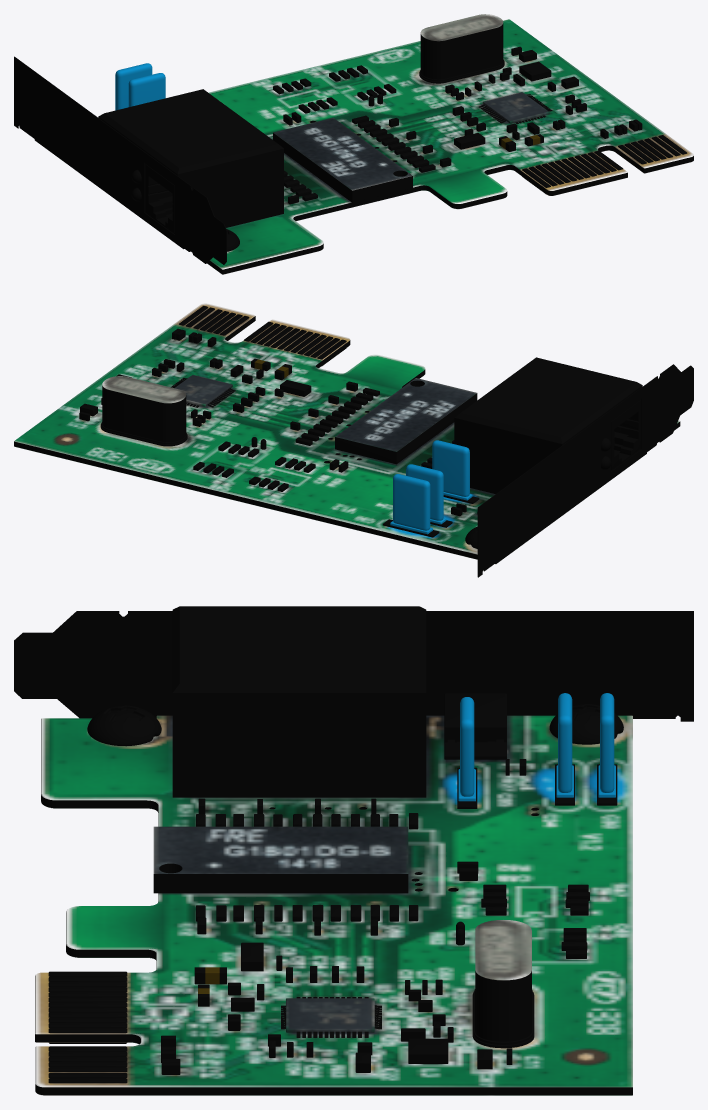
Rendered from tarjeta_red.glb.
3 renders of one model, top to bottom at view 1: azimuth 30°, elevation 25°; view 2: azimuth 150°, elevation 25°; view 3: azimuth 270°, elevation 25°, orthographic. The views are drawn at different scales.
Visible parts, largest first — view 1: Rectangle001.008, Box020.003, Rectangle007.005, Box019.003, Rectangle002.007, Box017.003, ChamferBox004.008, ChamferBox027.008, Rectangle014.005, Box023.003, Box021.003; view 2: Rectangle001.008, Box020.003, Rectangle007.005, Box019.003, Rectangle002.007, Box017.003, ChamferBox004.008, Box021.003, Box025.002, Rectangle014.005, ChamferBox027.008, Box023.003; view 3: Rectangle001.008, Box020.003, Rectangle007.005, Box019.003, Box017.003, Rectangle002.007, ChamferBox004.008, Box018.003, ChamferBox027.008, Sphere008.003, Box025.002, Box021.003 (+3 smaller).
Boxes of the visible parts, <box> form: Rectangle001.008: <box>34,19,693,274</box>; Box020.003: <box>98,89,283,234</box>; Rectangle007.005: <box>14,56,226,264</box>; Box019.003: <box>273,117,412,202</box>; Rectangle002.007: <box>419,14,504,83</box>; Box017.003: <box>283,46,642,204</box>; ChamferBox004.008: <box>273,65,435,201</box>; ChamferBox027.008: <box>482,92,549,123</box>; Rectangle014.005: <box>145,164,174,232</box>; Box023.003: <box>128,73,165,106</box>; Box021.003: <box>115,63,152,110</box>; Rectangle001.008: <box>14,303,680,564</box>; Box020.003: <box>454,357,642,493</box>; Rectangle007.005: <box>477,364,693,577</box>; Box019.003: <box>335,378,477,464</box>; Rectangle002.007: <box>100,376,187,446</box>; Box017.003: <box>79,328,466,516</box>; ChamferBox004.008: <box>193,388,454,491</box>; Box021.003: <box>393,474,430,530</box>; Box025.002: <box>432,440,469,496</box>; Rectangle014.005: <box>611,400,640,469</box>; ChamferBox027.008: <box>174,374,232,406</box>; Box023.003: <box>406,464,443,520</box>; Rectangle001.008: <box>35,715,632,1095</box>; Box020.003: <box>172,606,426,797</box>; Rectangle007.005: <box>14,611,693,721</box>; Box019.003: <box>153,826,408,893</box>; Box017.003: <box>161,759,526,1074</box>; Rectangle002.007: <box>472,920,534,1048</box>; ChamferBox004.008: <box>196,813,589,958</box>; Box018.003: <box>444,693,506,759</box>; ChamferBox027.008: <box>286,998,374,1032</box>; Sphere008.003: <box>87,705,161,746</box>; Box025.002: <box>460,697,474,796</box>; Box021.003: <box>600,693,614,792</box>.
Size of the model in its own units: 2.76 by 0.4194 by 2.11.
Materials: 22 (4 with a texture image).
